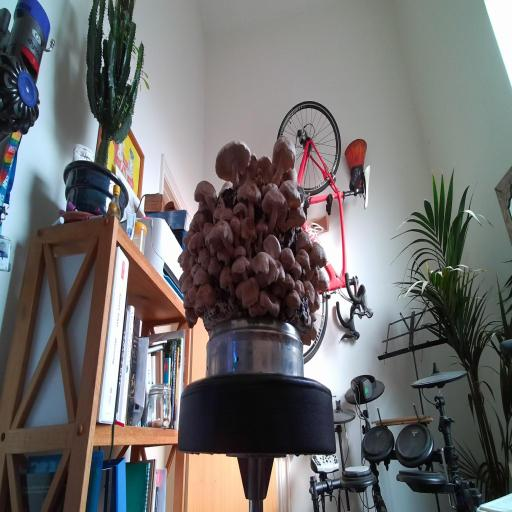Shiitake Mushroom: (258, 171, 313, 232), (209, 126, 256, 194), (247, 177, 299, 236), (290, 235, 338, 284), (229, 170, 271, 221), (204, 213, 240, 260), (250, 246, 286, 290), (229, 151, 267, 191), (231, 209, 265, 252), (232, 271, 264, 313), (272, 135, 296, 185), (191, 174, 221, 214), (255, 228, 290, 262), (251, 287, 287, 319), (180, 226, 212, 260), (276, 203, 310, 231), (294, 320, 324, 351), (248, 215, 271, 253), (172, 244, 199, 276), (185, 205, 211, 238), (275, 241, 300, 275), (227, 196, 256, 225), (275, 270, 299, 304), (289, 245, 319, 272), (299, 275, 321, 310), (212, 242, 237, 272), (194, 281, 217, 313), (282, 285, 305, 317), (230, 252, 253, 283), (303, 262, 327, 291), (217, 263, 235, 301), (179, 302, 202, 331), (204, 253, 226, 283), (174, 272, 199, 296), (289, 275, 311, 300), (245, 297, 271, 318), (178, 223, 198, 249), (207, 203, 230, 225), (307, 289, 325, 317), (257, 153, 273, 184), (183, 280, 200, 309), (192, 244, 214, 265), (197, 216, 217, 239), (214, 177, 236, 196), (175, 265, 191, 291), (295, 230, 313, 253), (192, 265, 210, 287), (184, 249, 203, 269), (230, 215, 241, 246), (282, 166, 298, 185), (317, 269, 329, 293), (218, 206, 235, 222), (200, 252, 212, 272), (291, 260, 303, 280), (232, 244, 248, 258), (190, 260, 202, 274), (271, 283, 282, 295), (310, 313, 317, 322)
